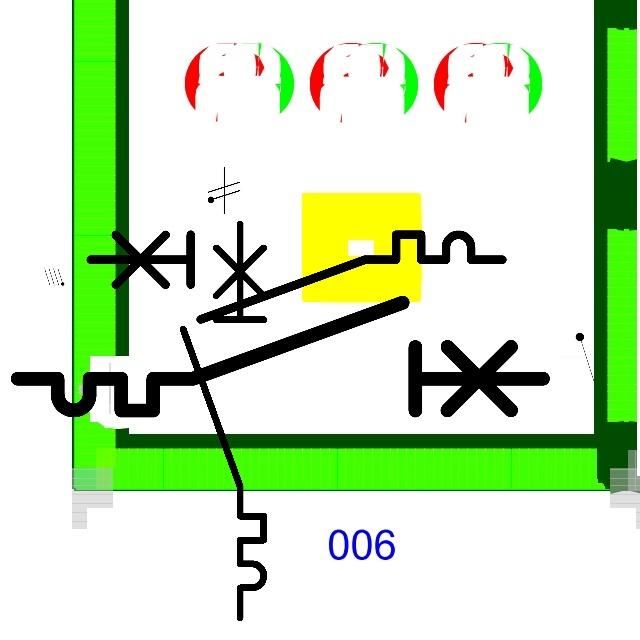interruptor_termomagnetico: (4, 289, 556, 424), (80, 224, 513, 330), (173, 213, 274, 627)
